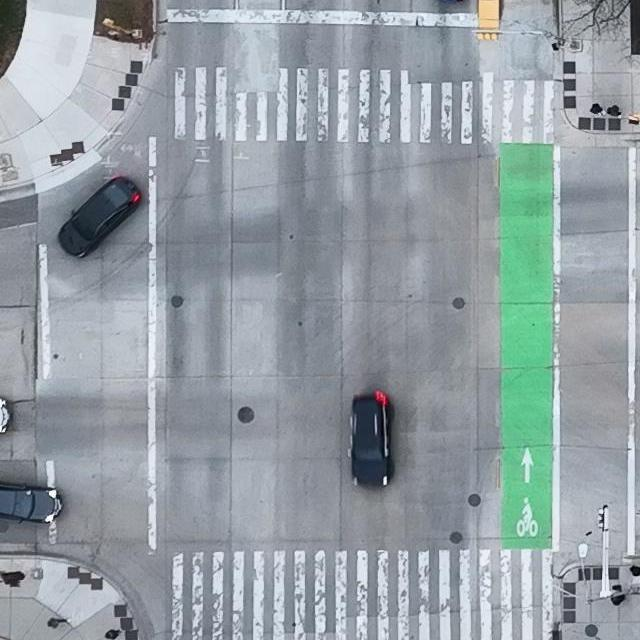car: (57, 177, 142, 257), (348, 390, 394, 487), (0, 482, 64, 525)
